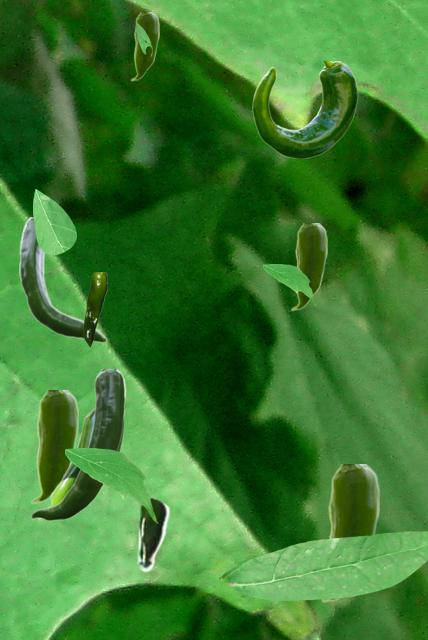green_chili: (30, 369, 125, 520), (19, 217, 106, 341), (252, 61, 357, 157), (320, 464, 378, 602), (48, 407, 122, 506), (30, 390, 77, 503), (290, 223, 326, 310), (135, 497, 169, 571), (130, 12, 158, 80), (83, 272, 106, 346)
